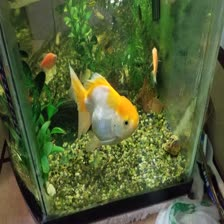Cuezo: (61, 62, 144, 149)
